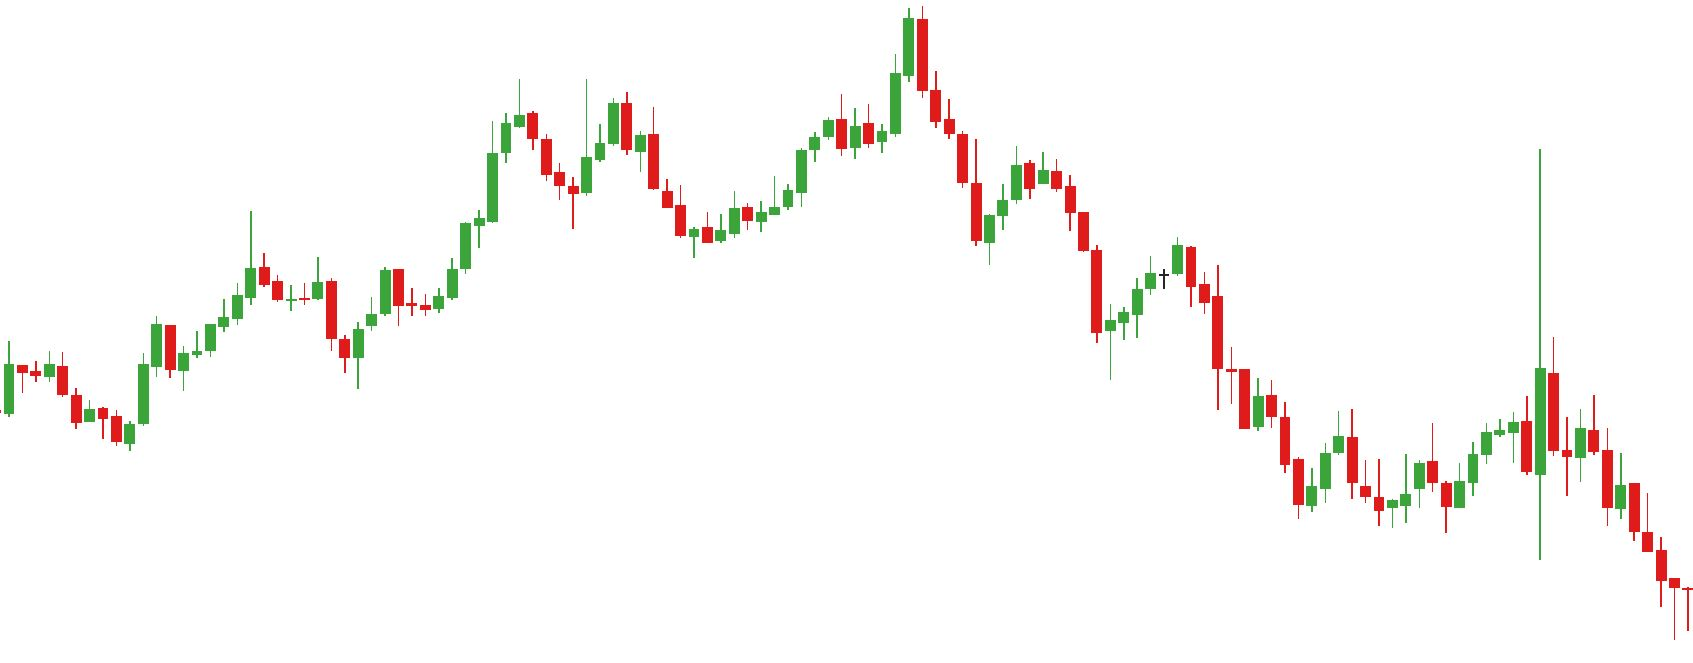buy: (565, 153, 742, 259), (1374, 460, 1452, 537)
